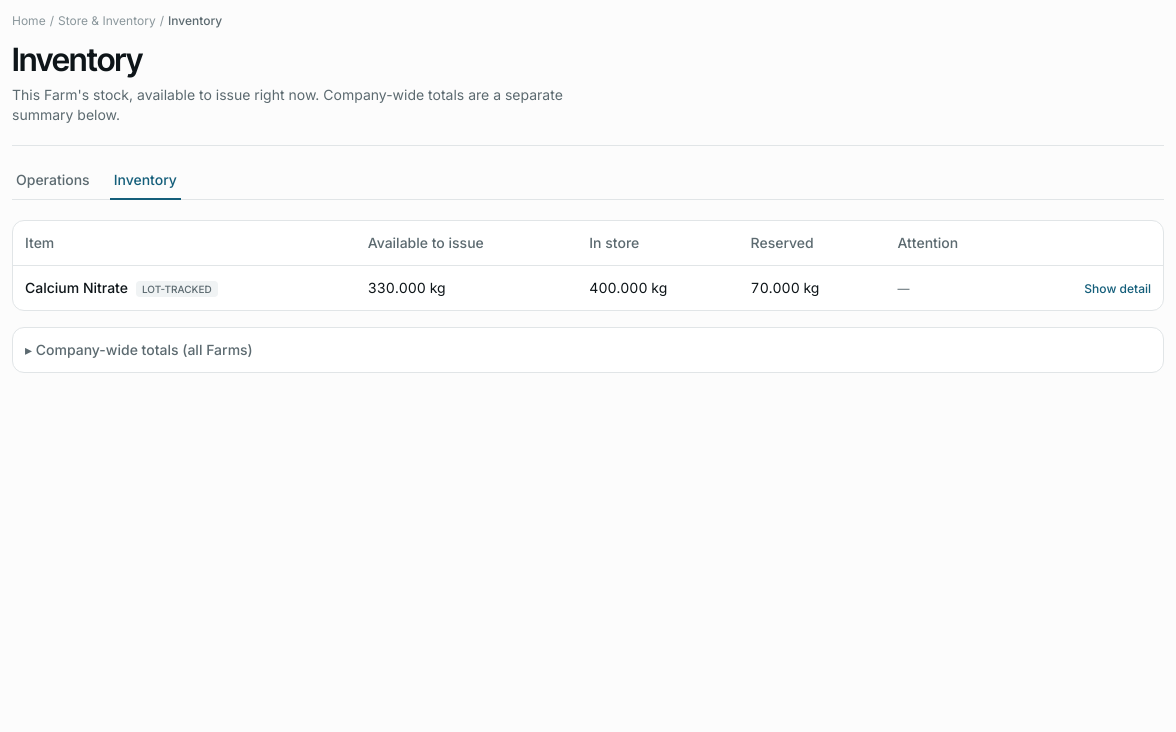
it: StoreInventoryInventoryPage › shows Issued to operations / Not put away only inside the selected-stock detail panel
Expected: the text "Calcium Nitrate" is shown, [25, 279, 128, 296]
Expected: the text "not put away" is not shown
Click the button "Show detail": (1118, 289) [1084, 281, 1151, 297]
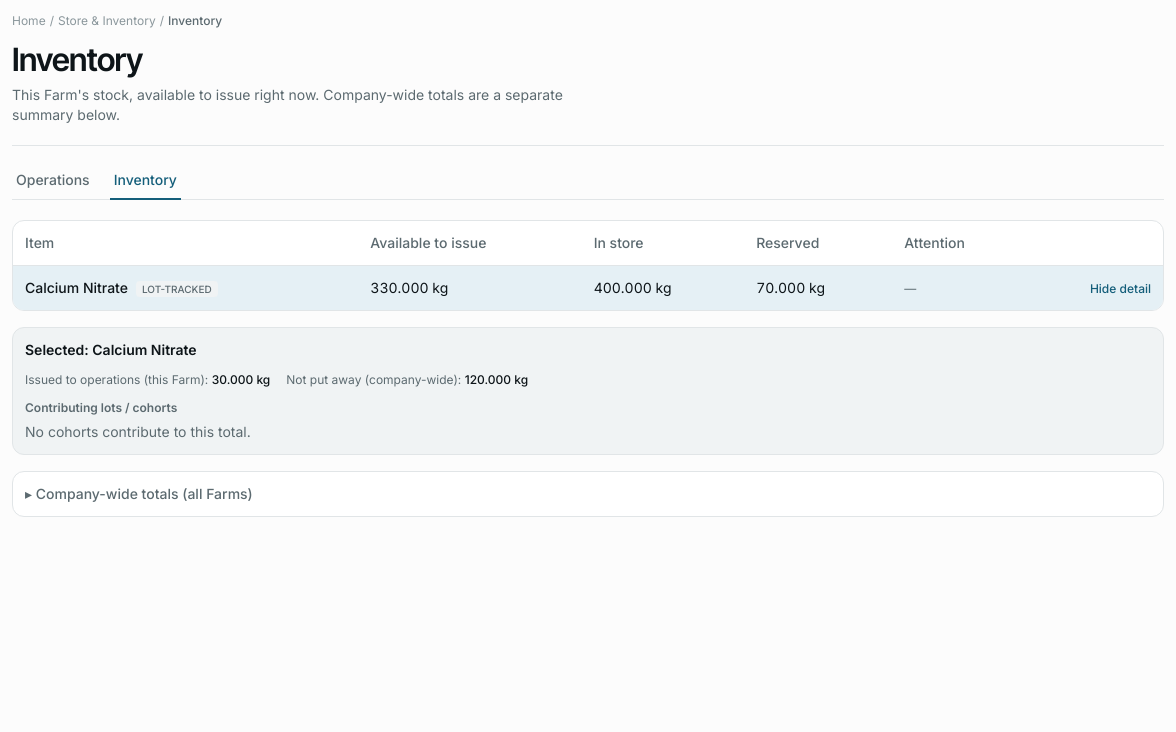
Now the text "Issued to operations (this Farm): 30.000 kg" is shown, box [25, 372, 270, 388]
Now the text "Not put away (company-wide): 120.000 kg" is shown, box [286, 372, 528, 388]
Now the text "120.000 kg" is shown, box [465, 372, 528, 387]
